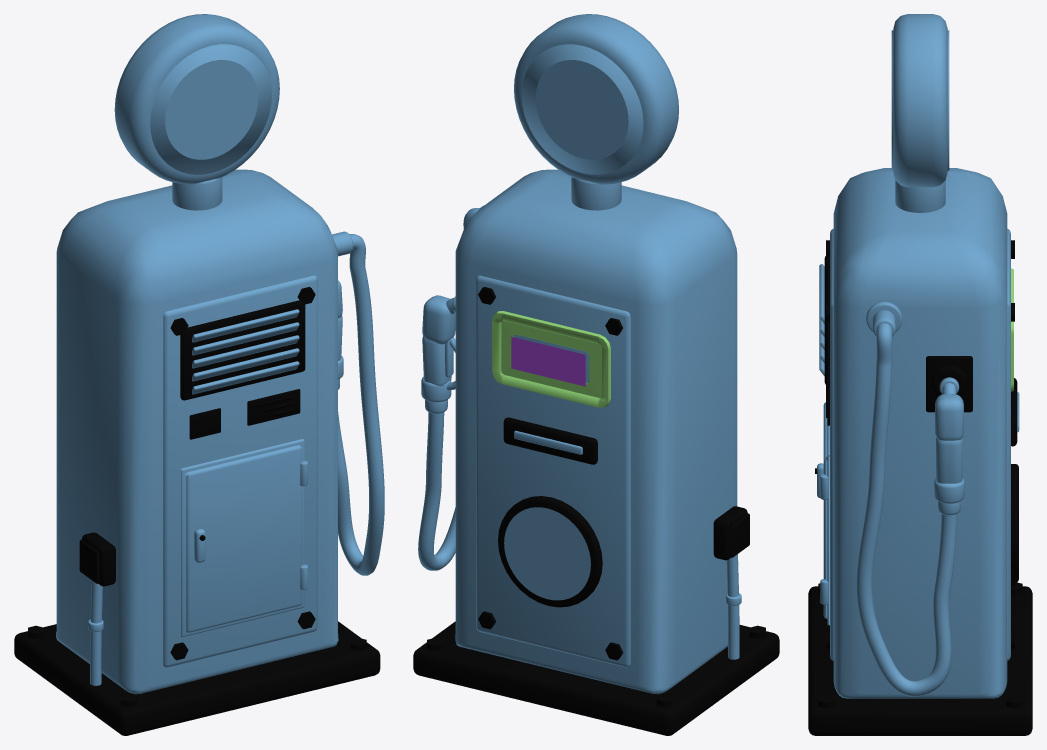
The model's file is obj_pacificscrap_fuelpump.fbx.
3 views of the same model, side by side, from view 1: azimuth 30°, elevation 25°; view 2: azimuth 150°, elevation 25°; view 3: azimuth 270°, elevation 25° (orthographic).
Visible parts, largest first — view 1: fuelpump_m01_containergas, fuelpump_m00_containerbattery; view 2: fuelpump_m01_containergas, fuelpump_m00_containerbattery, fuelpump_m02_connectionpoint, fuelpump_m03_screen; view 3: fuelpump_m01_containergas, fuelpump_m00_containerbattery.
Part boxes in pixels (left/top/right/bottom): fuelpump_m01_containergas: left=56, top=14, right=384, bottom=694; fuelpump_m00_containerbattery: left=14, top=287, right=380, bottom=735; fuelpump_m01_containergas: left=418, top=14, right=741, bottom=694; fuelpump_m00_containerbattery: left=413, top=287, right=779, bottom=735; fuelpump_m02_connectionpoint: left=492, top=311, right=610, bottom=407; fuelpump_m03_screen: left=511, top=336, right=585, bottom=386; fuelpump_m01_containergas: left=817, top=14, right=1019, bottom=698; fuelpump_m00_containerbattery: left=808, top=240, right=1032, bottom=735.
Size of the model in its own units: 3.85 by 7.96 by 2.48.
